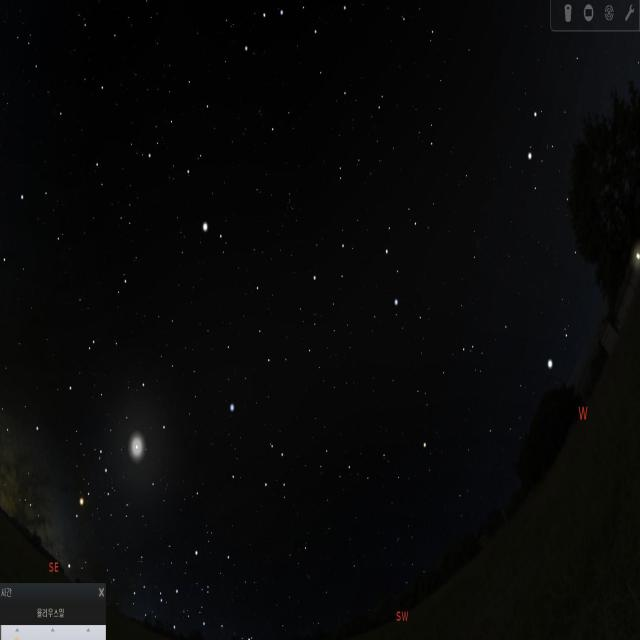bootes: (163, 69, 223, 243)
canis_minor: (540, 324, 576, 378)
gemini: (517, 106, 609, 213)
leo: (308, 198, 422, 331)
moon: (120, 419, 155, 468)
scorpius: (66, 435, 116, 527)
